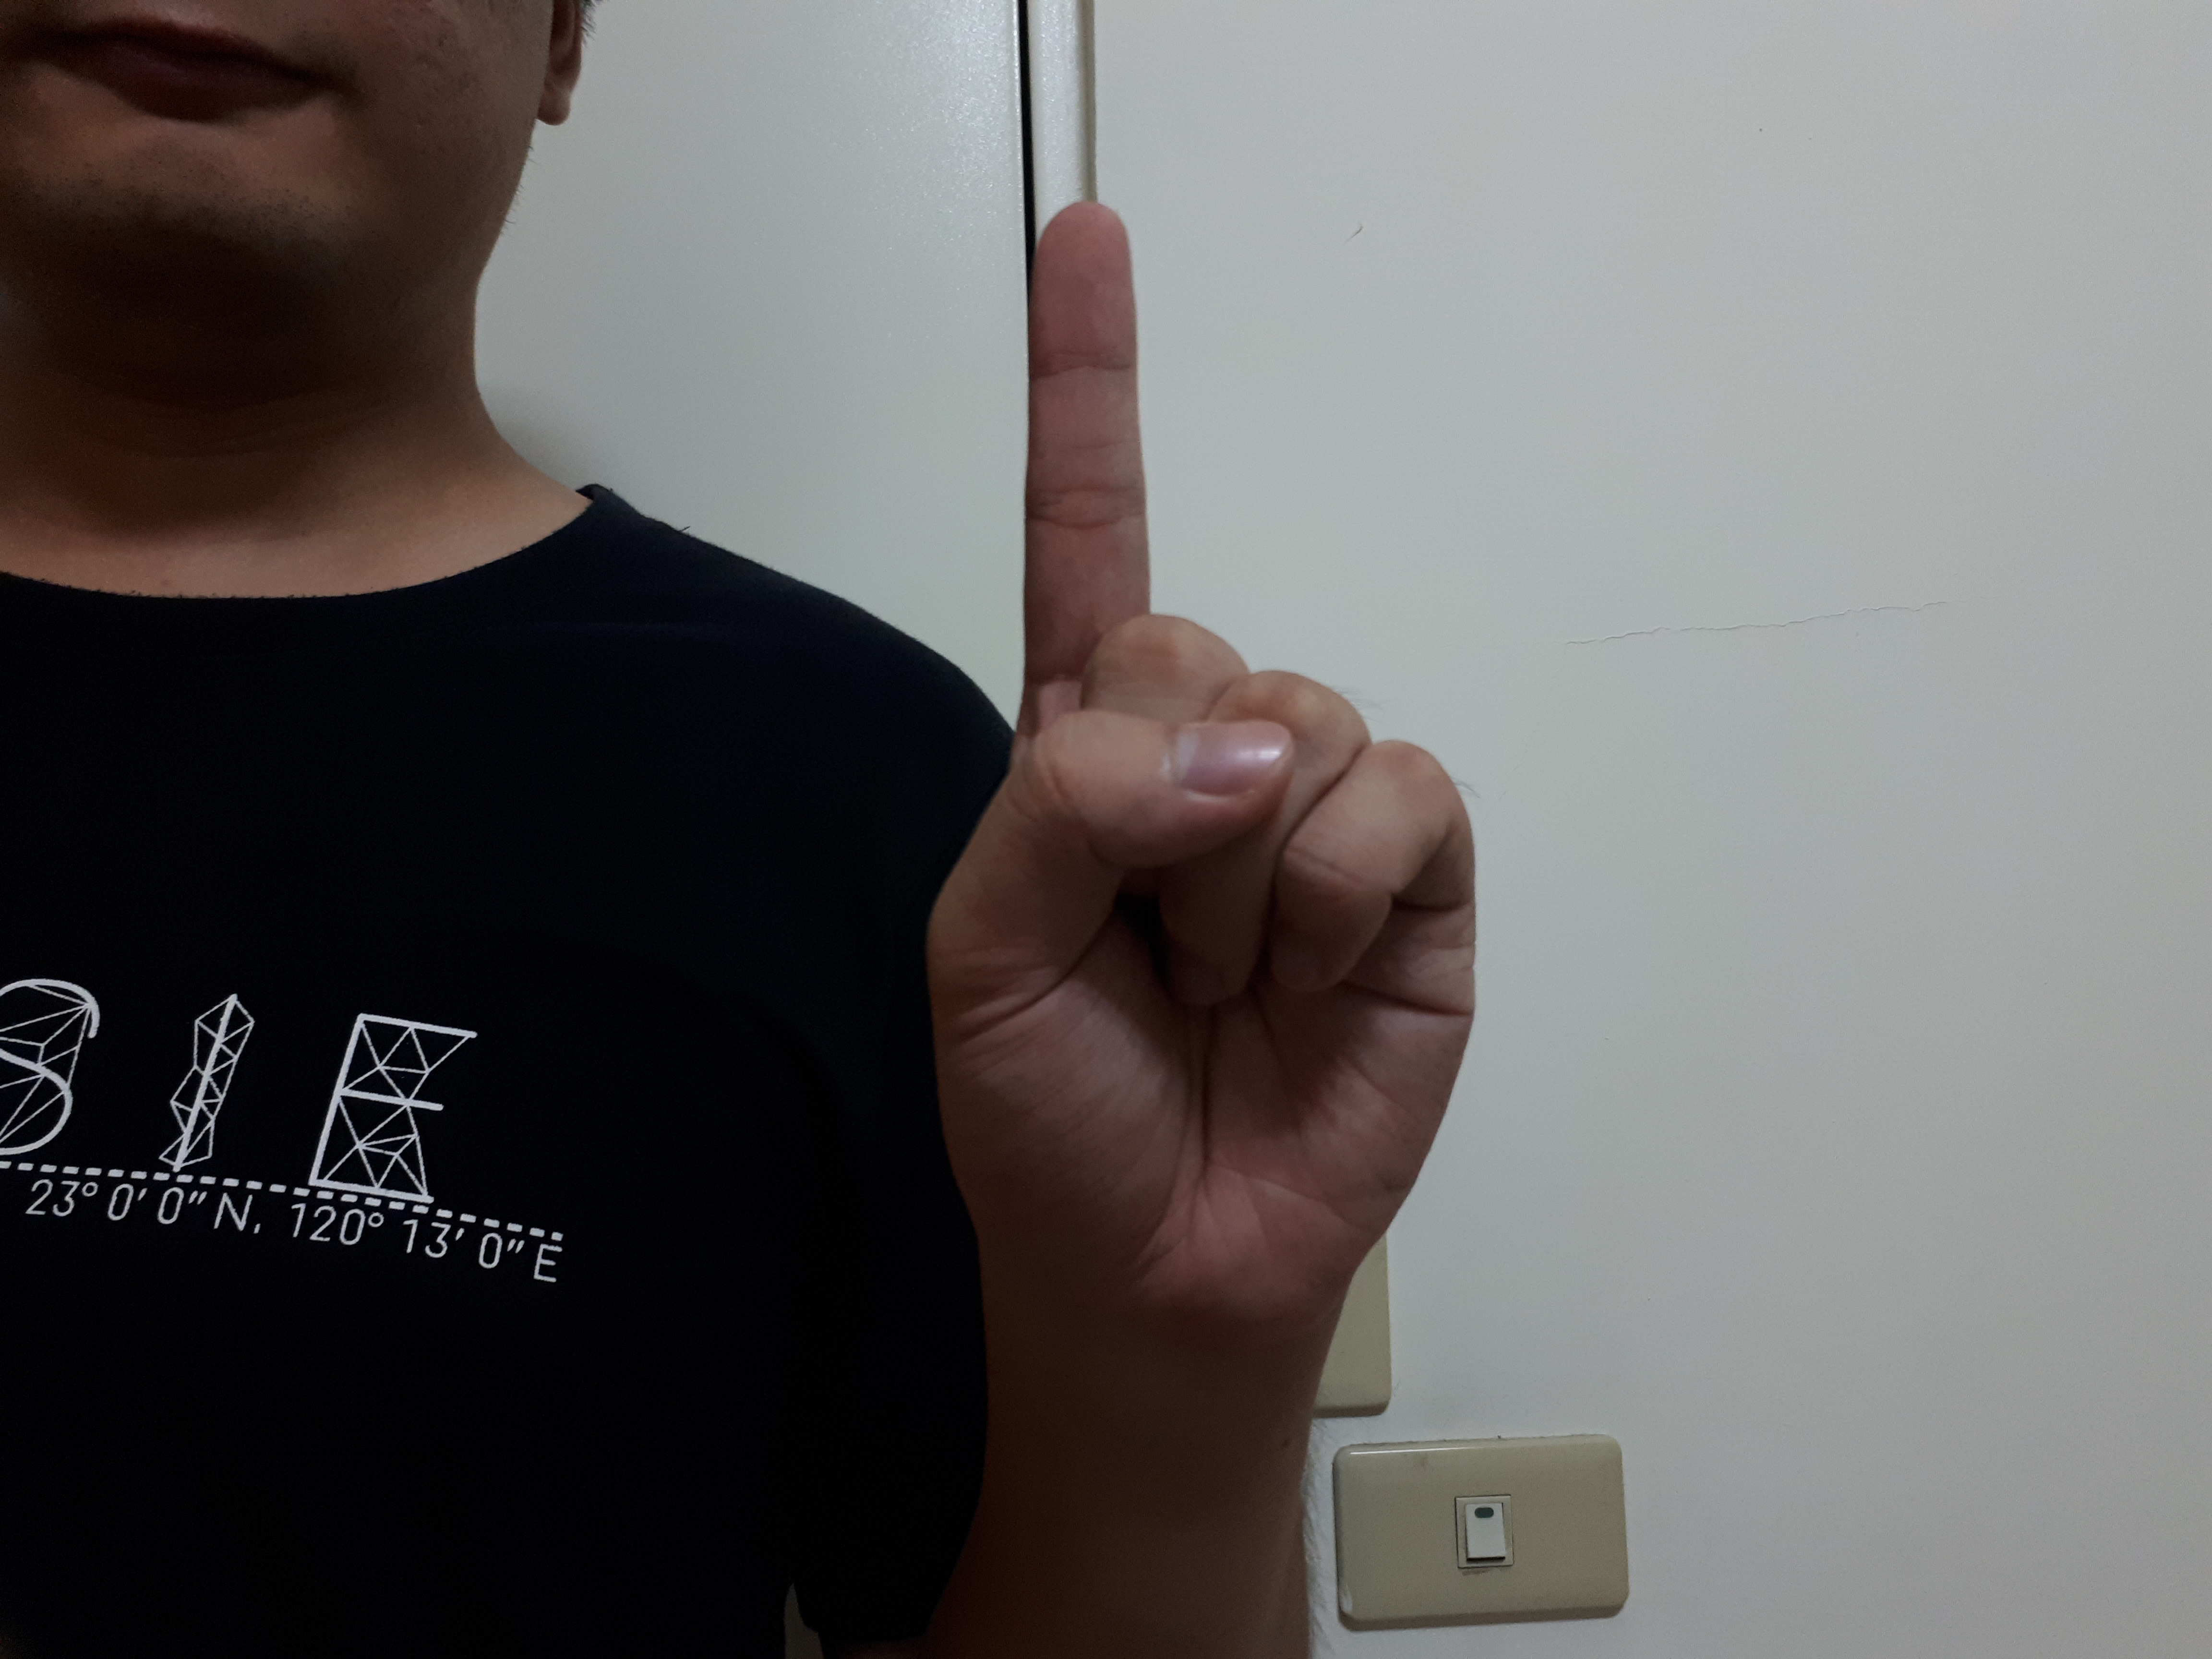up: (1416, 387, 1853, 1183)
